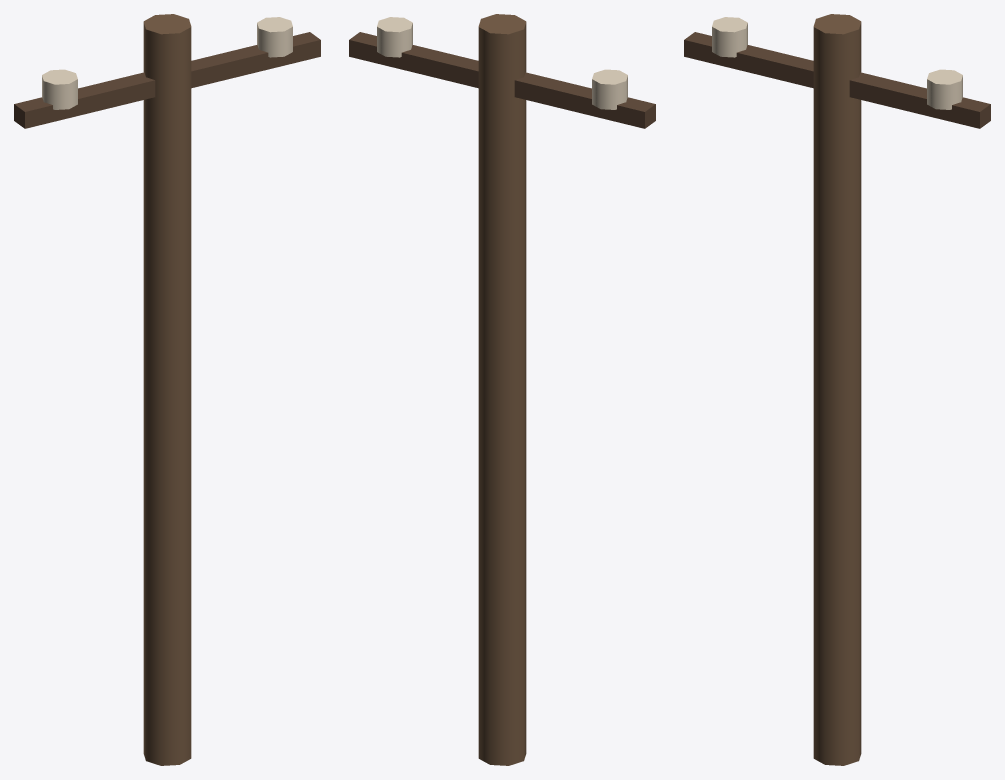
The model's file is utility_pole.glb.
3 renders of one model, left to right at view 1: azimuth 30°, elevation 25°; view 2: azimuth 150°, elevation 25°; view 3: azimuth 330°, elevation 25°, orthographic.
Visible parts, largest first — view 1: _MeshInstance3D_509, _MeshInstance3D_511, _MeshInstance3D_512, _MeshInstance3D_514; view 2: _MeshInstance3D_509, _MeshInstance3D_511, _MeshInstance3D_512, _MeshInstance3D_514; view 3: _MeshInstance3D_509, _MeshInstance3D_511, _MeshInstance3D_512, _MeshInstance3D_514.
Part boxes in pixels (x1=…): _MeshInstance3D_509: x1=143, y1=14, x2=191, y2=765; _MeshInstance3D_511: x1=14, y1=32, x2=320, y2=128; _MeshInstance3D_512: x1=42, y1=69, x2=77, y2=109; _MeshInstance3D_514: x1=257, y1=17, x2=292, y2=57; _MeshInstance3D_509: x1=478, y1=14, x2=526, y2=765; _MeshInstance3D_511: x1=349, y1=32, x2=655, y2=128; _MeshInstance3D_512: x1=592, y1=69, x2=627, y2=109; _MeshInstance3D_514: x1=377, y1=17, x2=412, y2=57; _MeshInstance3D_509: x1=813, y1=14, x2=861, y2=765; _MeshInstance3D_511: x1=684, y1=32, x2=990, y2=128; _MeshInstance3D_512: x1=712, y1=17, x2=747, y2=57; _MeshInstance3D_514: x1=927, y1=69, x2=962, y2=109.
Size of the model in its own units: 2.2 by 5.2 by 0.32.
